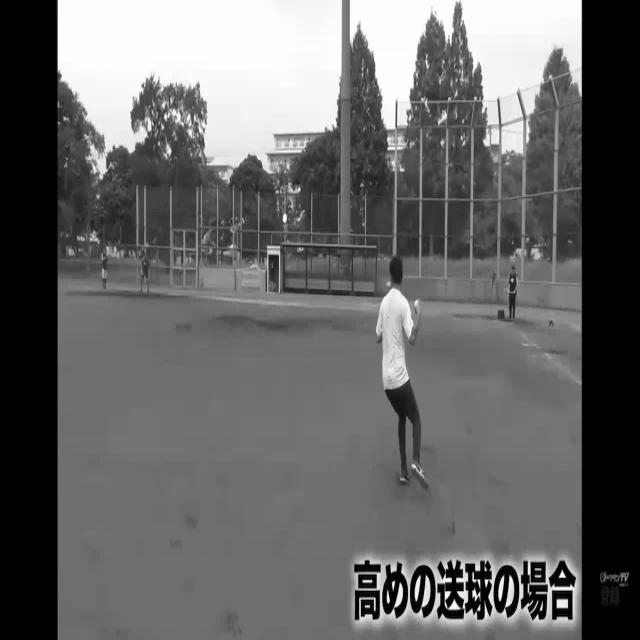baseball: (414, 300, 419, 308)
shoe: (408, 461, 430, 496), (400, 467, 410, 479)
